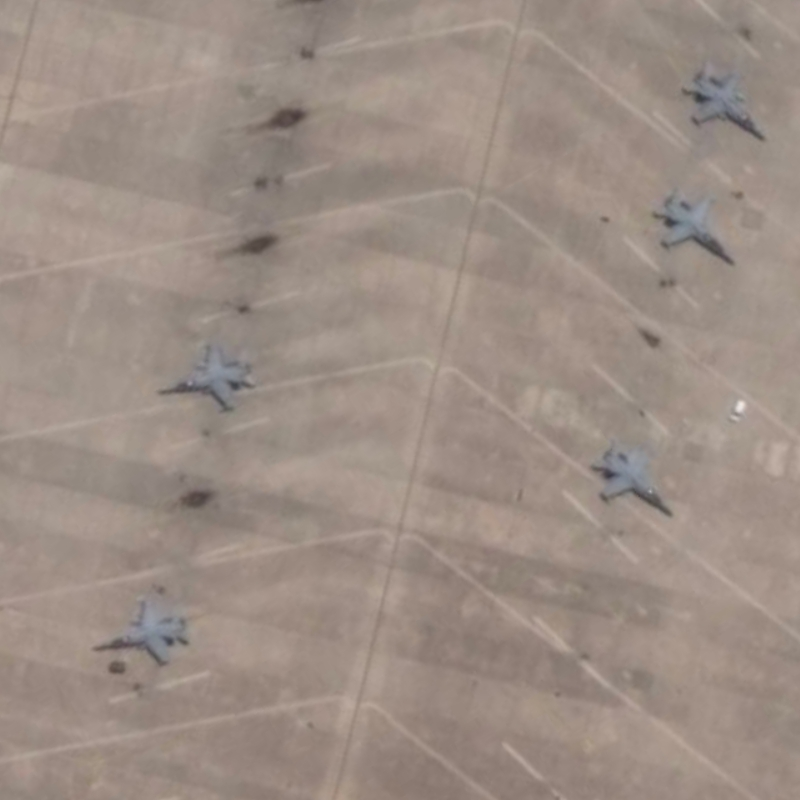A16: (153, 339, 263, 417), (90, 591, 198, 668), (589, 434, 680, 524), (679, 57, 773, 144), (650, 183, 740, 273)
